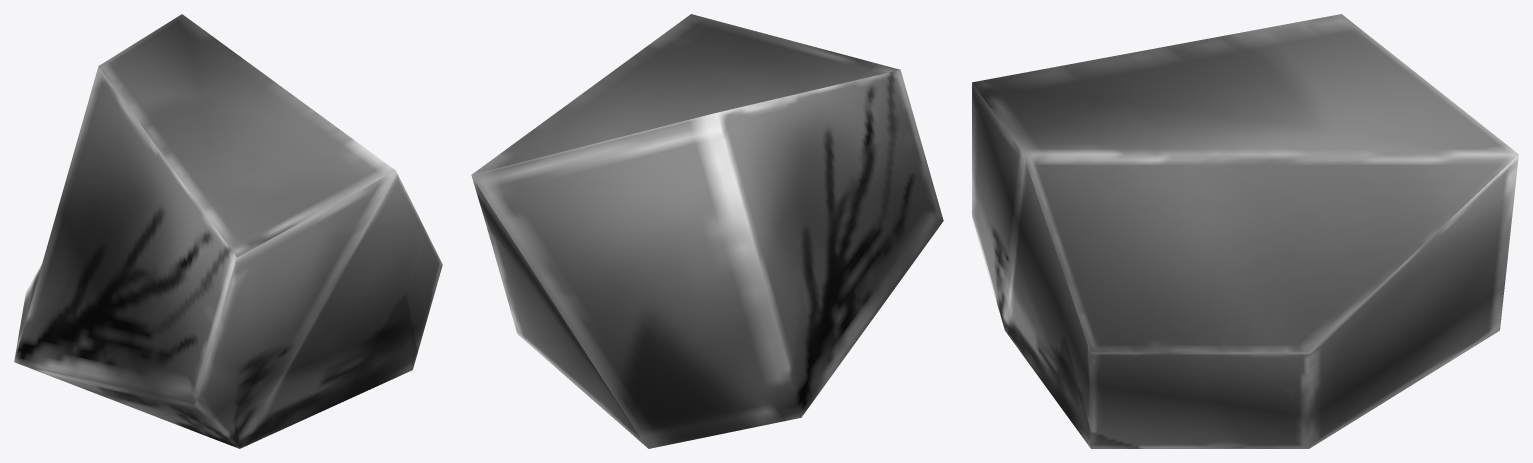
The model's file is SM_Rock_13.fbx.
3 renders of one model, left to right at view 1: azimuth 30°, elevation 25°; view 2: azimuth 150°, elevation 25°; view 3: azimuth 270°, elevation 25°, orthographic. The views are drawn at different scales.
Parts seen in each view (by area): view 1: Roca 13; view 2: Roca 13; view 3: Roca 13.
Boxes of the visible parts, <box> form: Roca 13: <box>14,14,442,448</box>; Roca 13: <box>471,14,943,448</box>; Roca 13: <box>972,14,1518,448</box>.
Bounding box in the file's own units: 2.32 × 1.9 × 2.96.
1 material, 1 textured.
